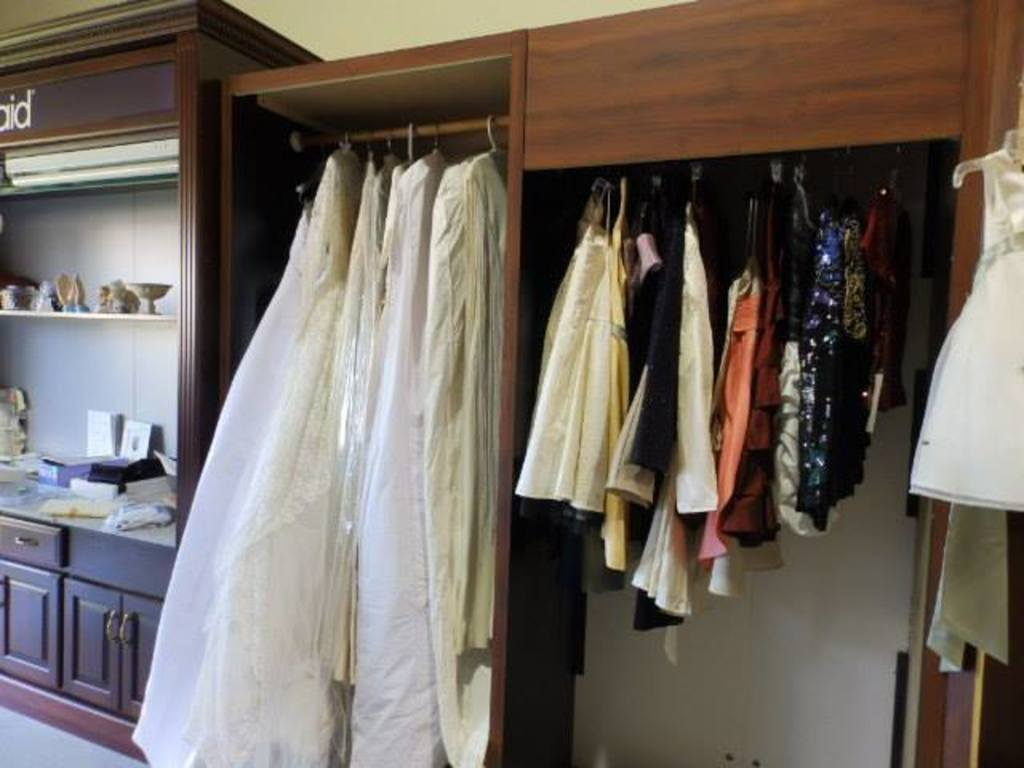cabinet door: (61, 578, 122, 693), (118, 603, 175, 720), (1, 515, 62, 572)
handle: (116, 603, 137, 655), (102, 602, 121, 647), (12, 531, 38, 550)
